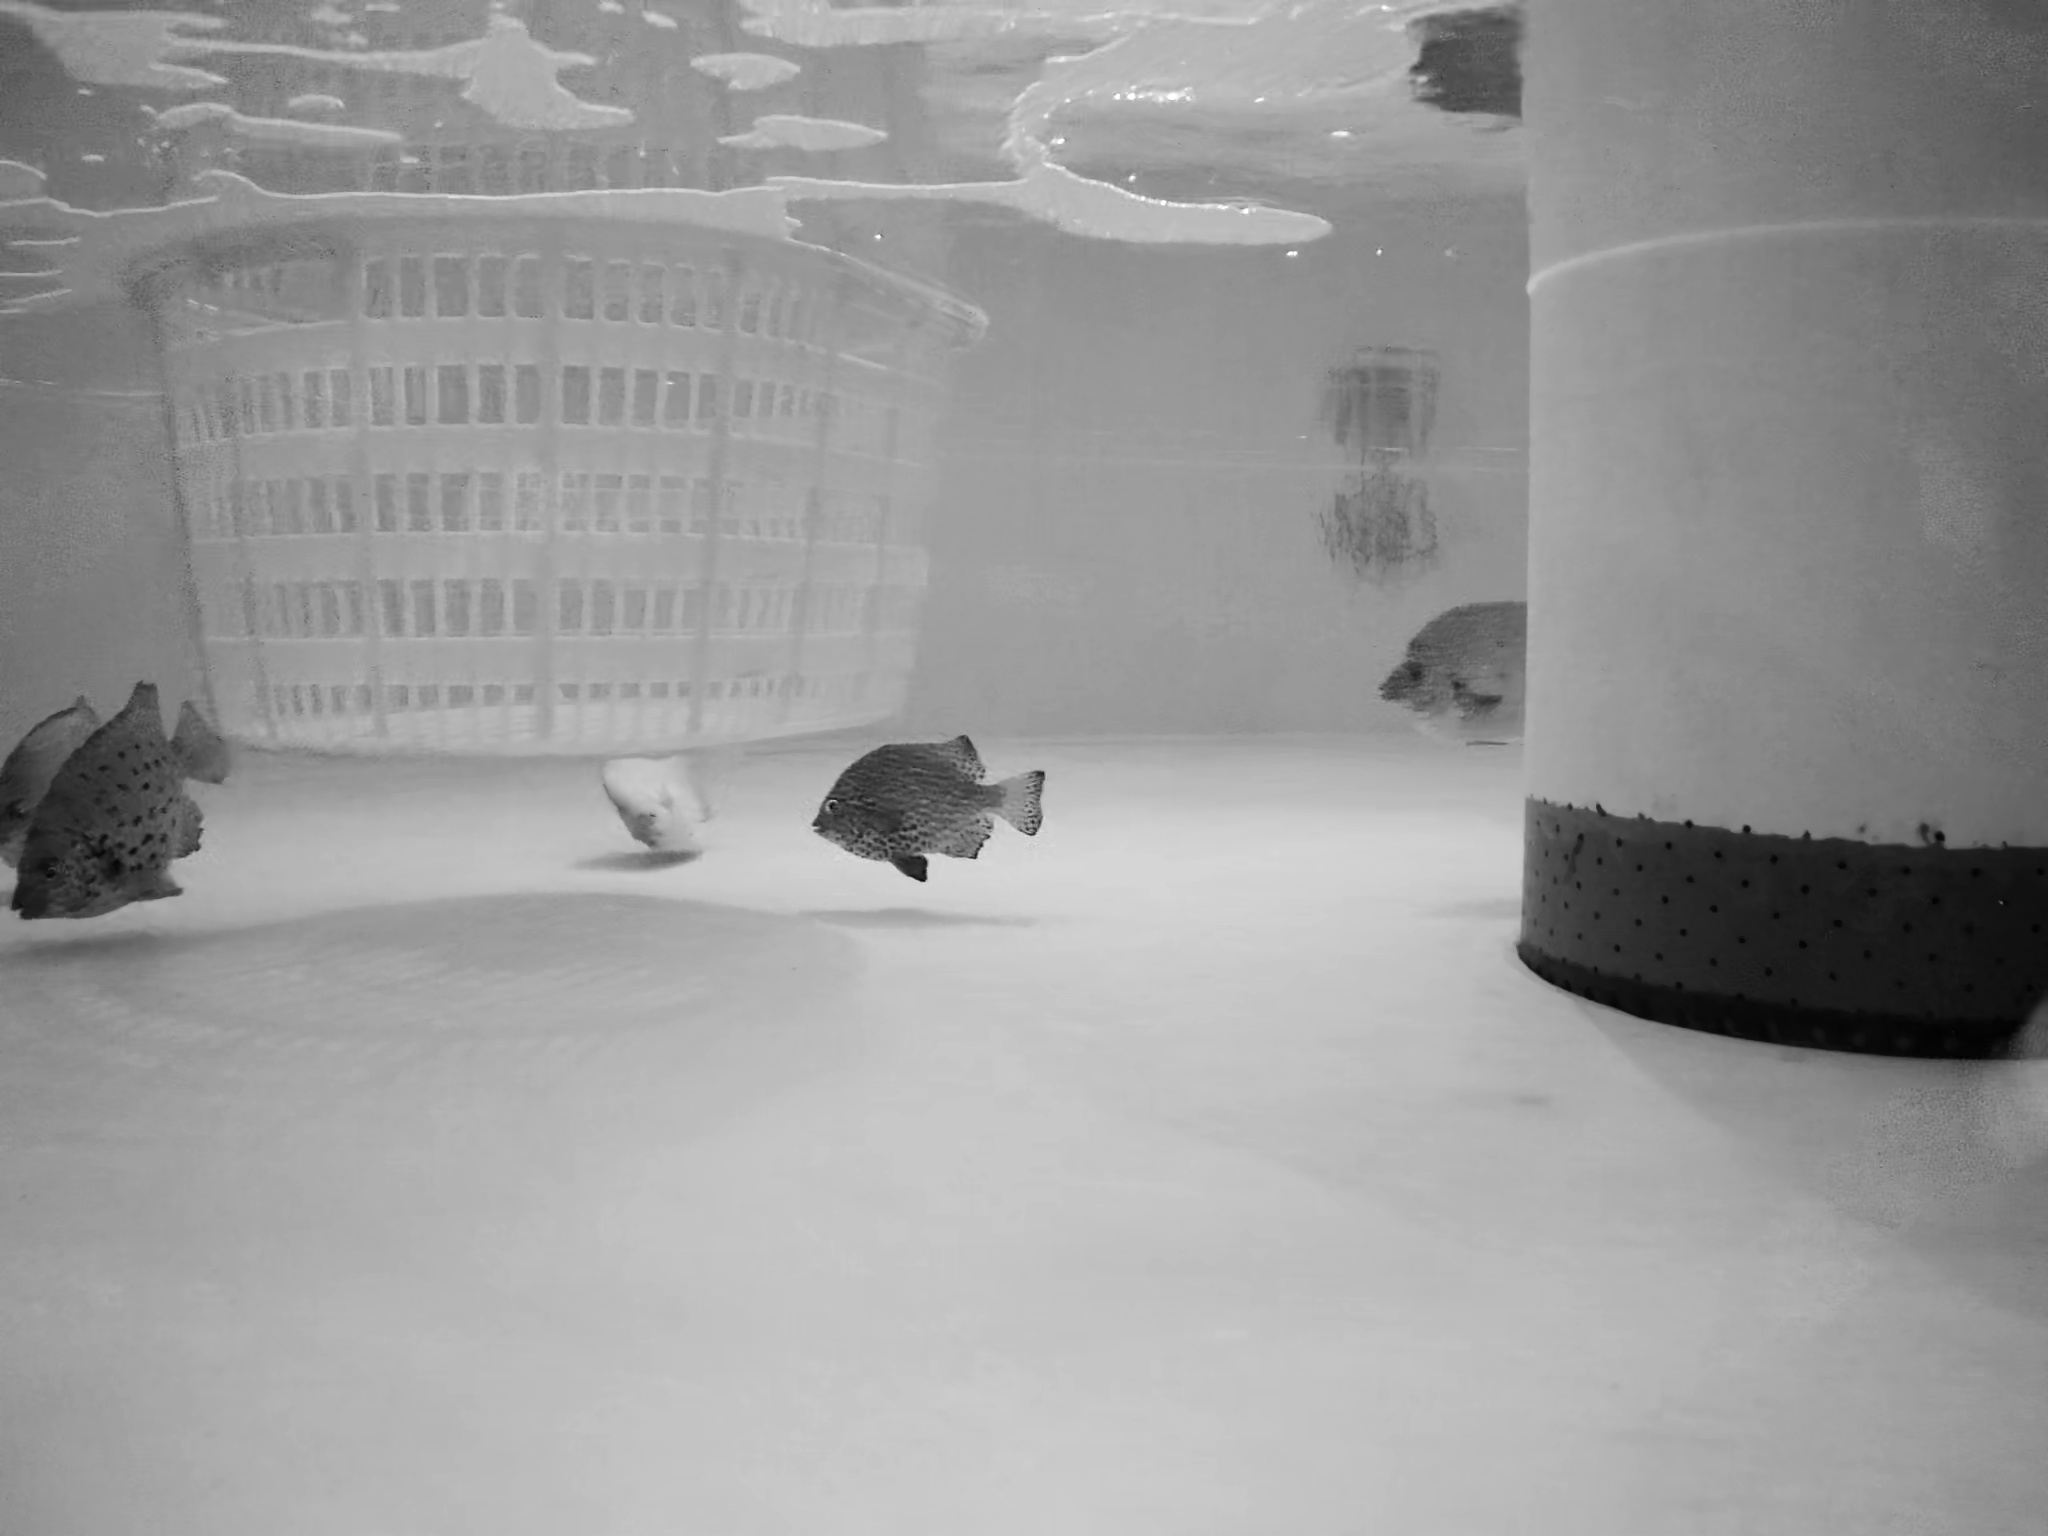fish: (2, 676, 244, 928), (808, 741, 1058, 868), (1374, 600, 1534, 744), (2, 700, 103, 862), (600, 736, 711, 855)
